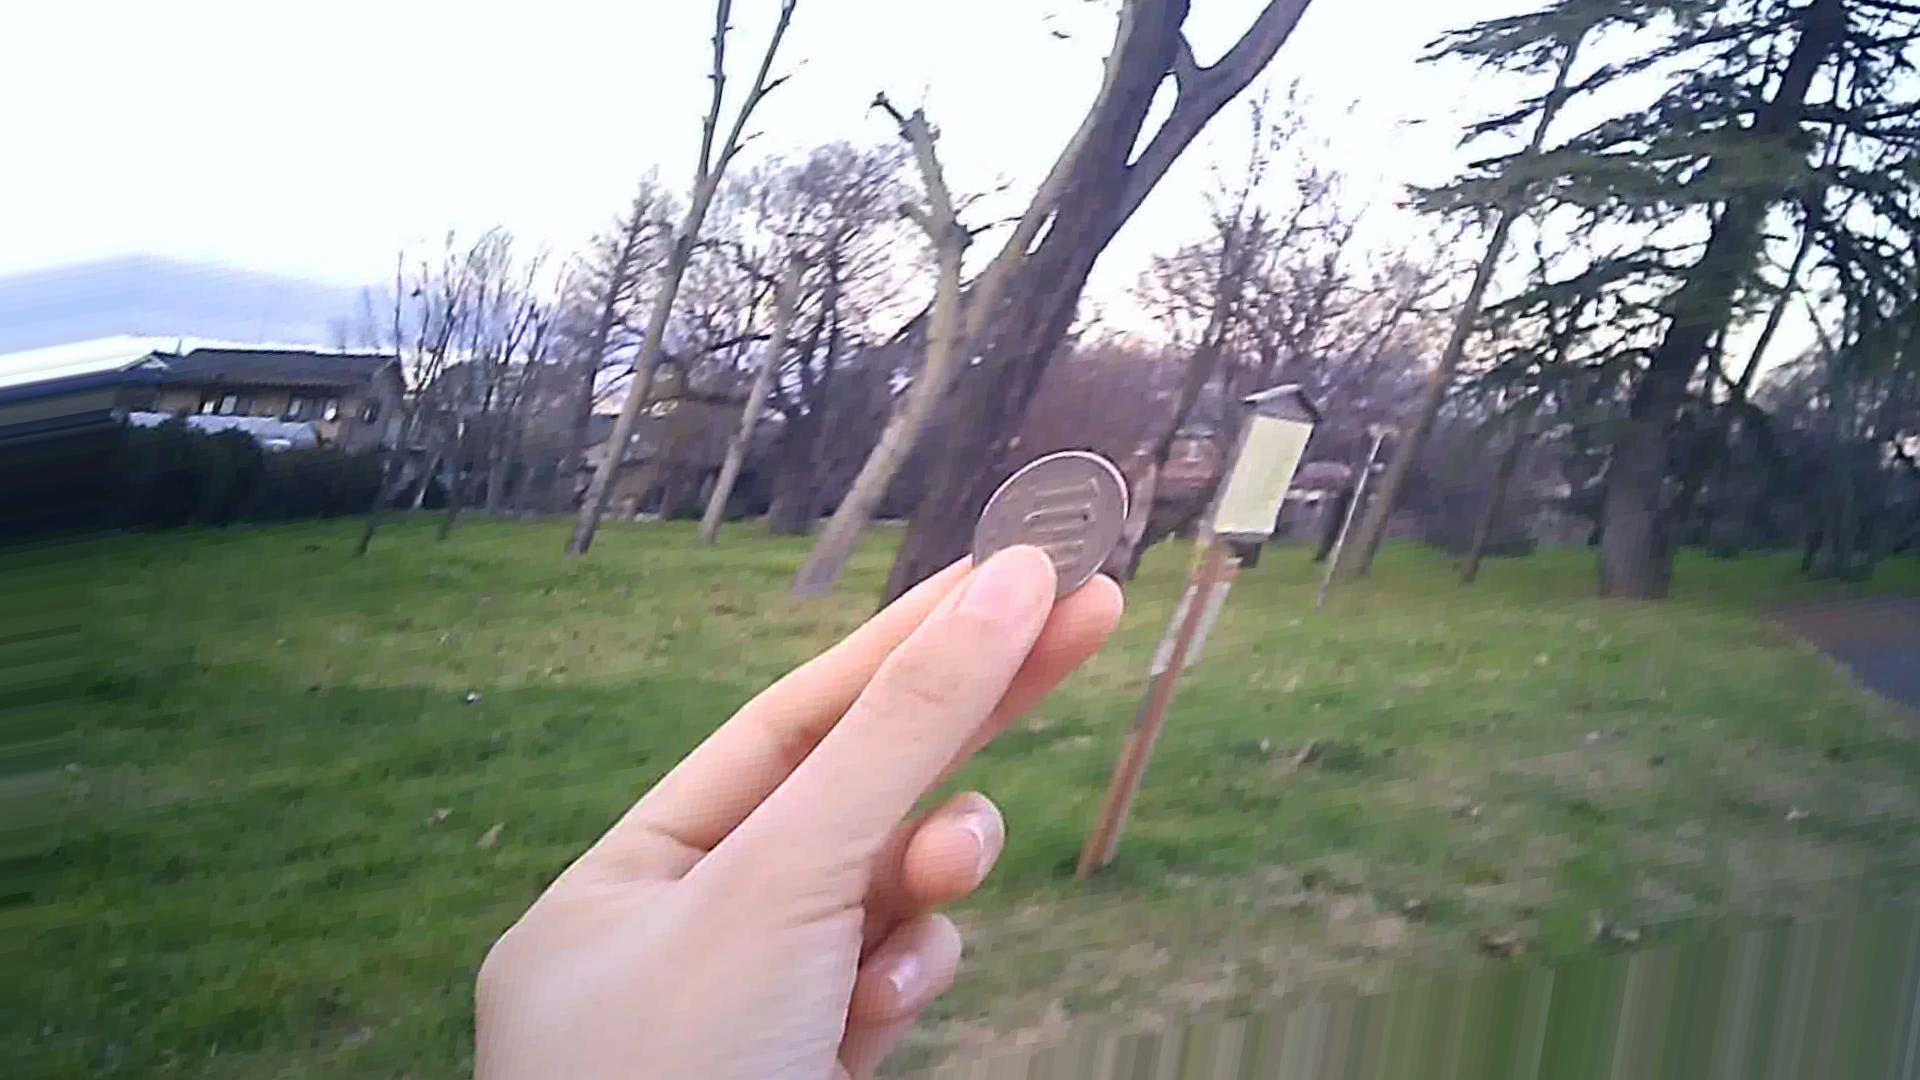100 Yen: (952, 442, 1135, 616)
